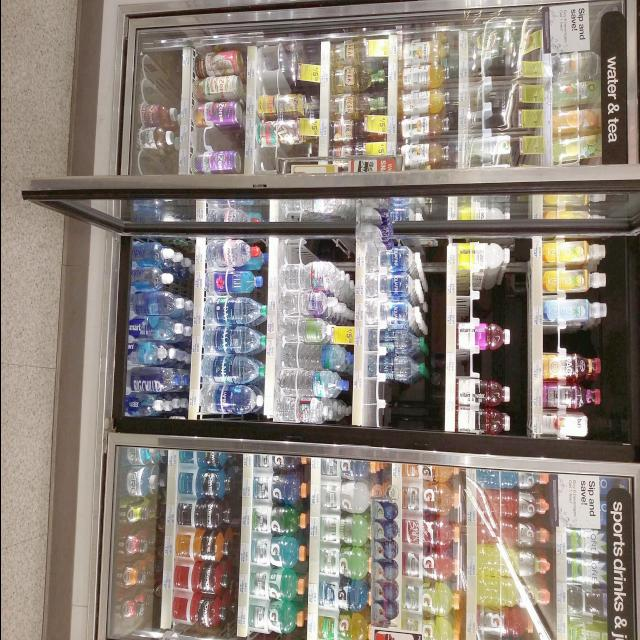empty_space: (468, 55, 508, 133), (363, 385, 421, 424), (141, 58, 179, 102), (260, 49, 296, 93), (458, 288, 502, 320), (458, 351, 500, 377), (543, 331, 589, 353), (193, 127, 231, 151), (255, 145, 289, 171), (137, 150, 173, 174), (286, 247, 338, 261), (168, 283, 190, 293)
